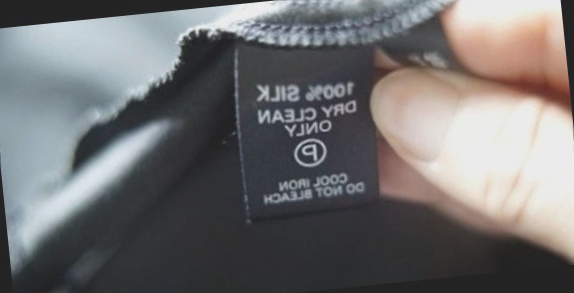dry_clean_any_solvent_except_trichloroethylene: (290, 134, 329, 169)
